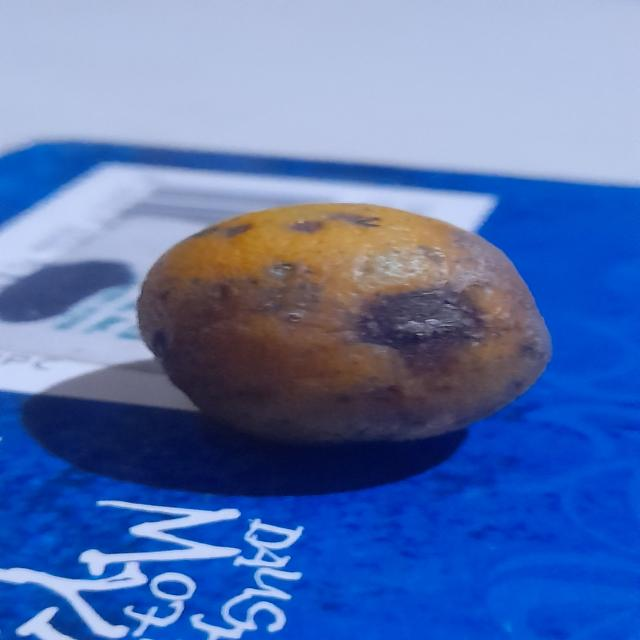black spot: (147, 193, 558, 455)
